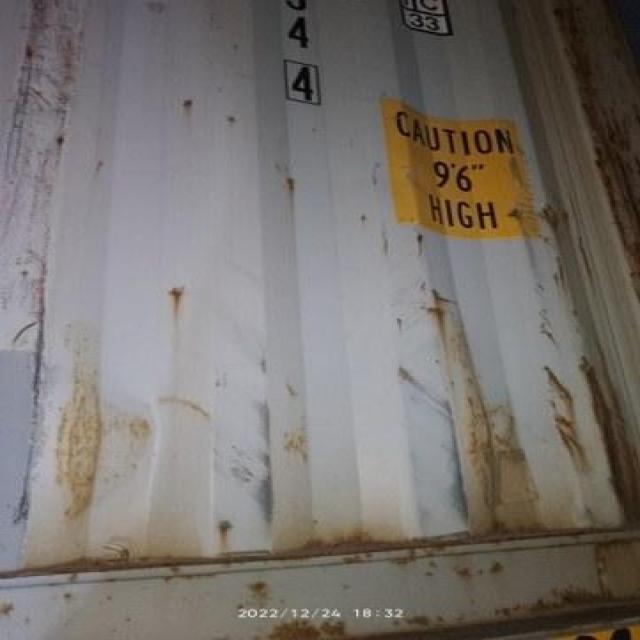rust: (589, 359, 640, 506)
